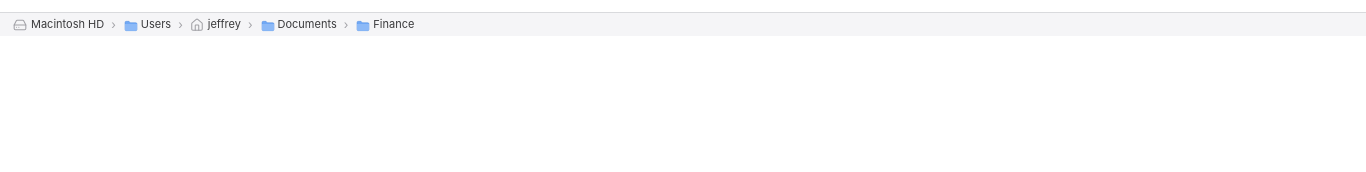
Scenario: PathBar path editing › opens an editor holding the full path, selected, when the empty bar is clicked
What coordinates should you click on to do the following:
click the navigation bar
I would click on:
 (683, 24)
Its box is [0,12,1365,36].
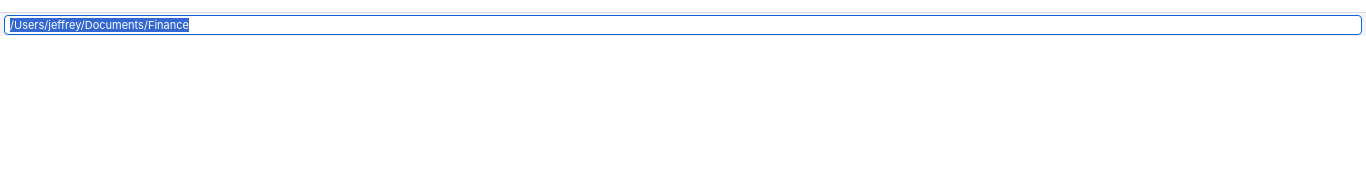
expect the dropdown named "finder.pathBar.edit" holds "/Users/jeffrey/Documents/Finance": met, box [4,14,1362,34]
